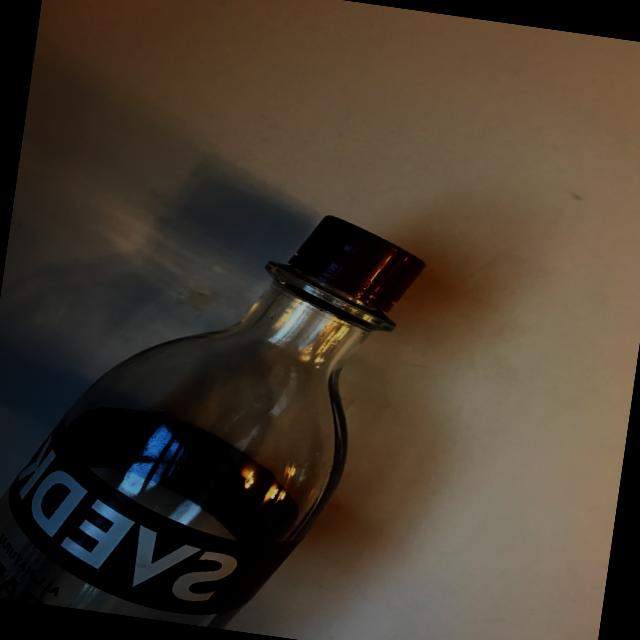Glass: (0, 153, 446, 640)
